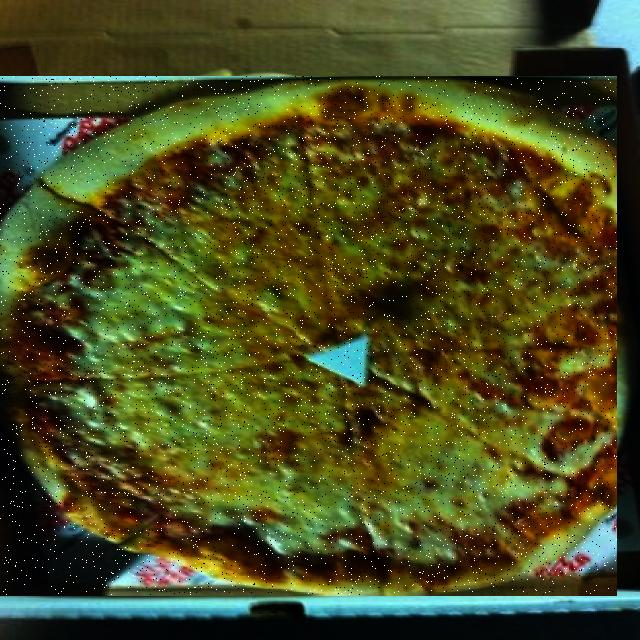Pizza: (0, 77, 617, 595)
